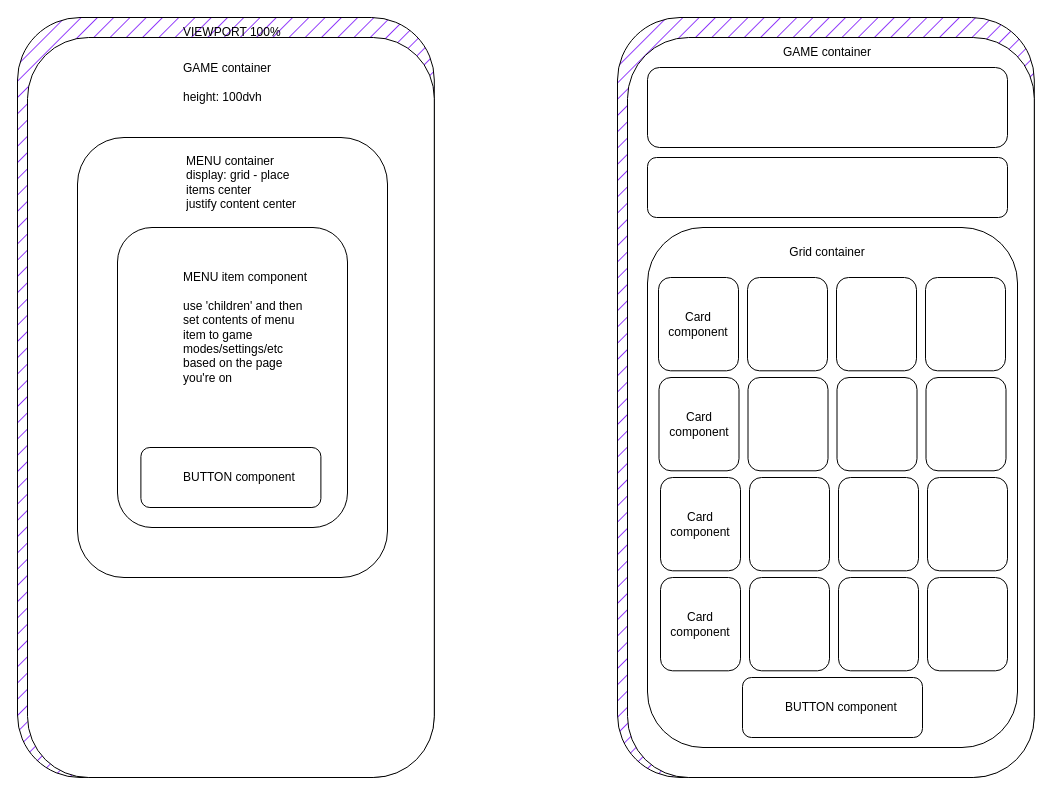
Image size: 1052x795. Some labels were removed from this diagram. Each missing label, with the centre of its shape:
"BONUSES component" belongs at point (827, 187).
"HUD component" belongs at point (827, 107).
